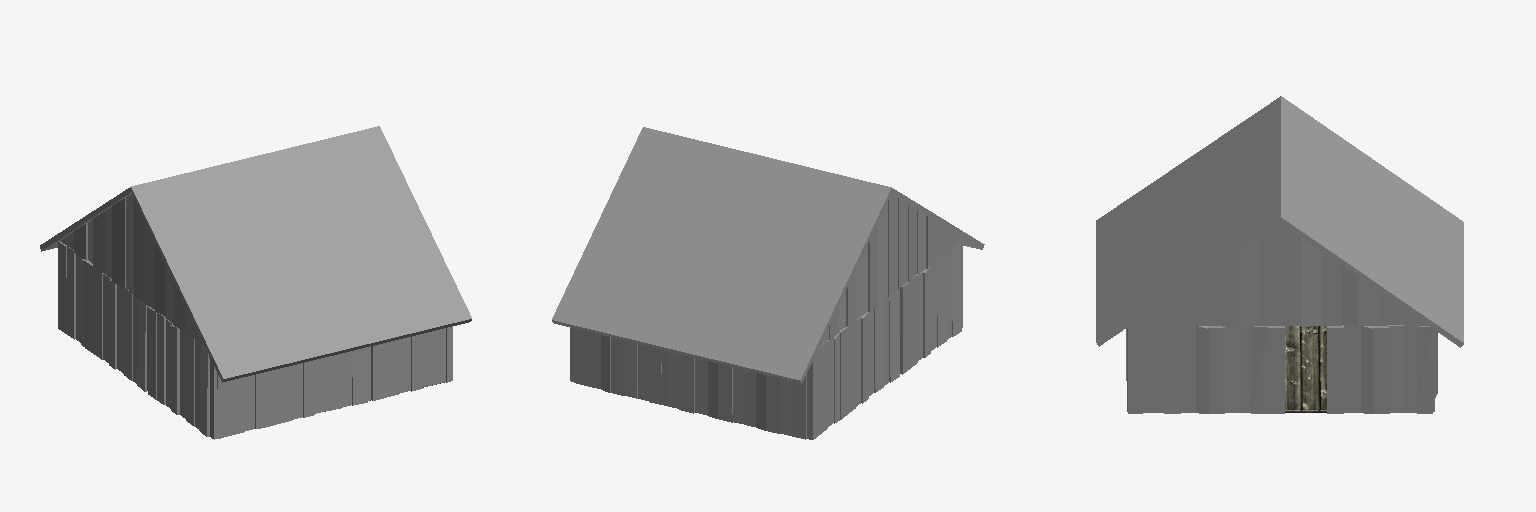
3 renders of one model, left to right at view 1: azimuth 30°, elevation 25°; view 2: azimuth 150°, elevation 25°; view 3: azimuth 270°, elevation 25°, orthographic.
Visible parts, largest first — view 1: Roof_Plane.002, BotFrame_Cube.090, TopeFrame_Cube.001; view 2: Roof_Plane.002, BotFrame_Cube.090, TopeFrame_Cube.001; view 3: Roof_Plane.002, BotFrame_Cube.090, TopeFrame_Cube.001, BotFloor-TopFloor_Plane.001.
Part boxes in pixels (left/top/right/bottom): Roof_Plane.002: left=40, top=126, right=471, bottom=382; BotFrame_Cube.090: left=58, top=241, right=452, bottom=439; TopeFrame_Cube.001: left=60, top=194, right=203, bottom=345; Roof_Plane.002: left=552, top=127, right=984, bottom=383; BotFrame_Cube.090: left=570, top=242, right=962, bottom=439; TopeFrame_Cube.001: left=820, top=194, right=964, bottom=345; Roof_Plane.002: left=1096, top=96, right=1463, bottom=347; BotFrame_Cube.090: left=1126, top=324, right=1437, bottom=413; TopeFrame_Cube.001: left=1130, top=223, right=1427, bottom=326; BotFloor-TopFloor_Plane.001: left=1285, top=326, right=1326, bottom=412.
Size of the model in its own units: 7.99 by 6.09 by 10.24.
Materials: 2 (1 with a texture image).